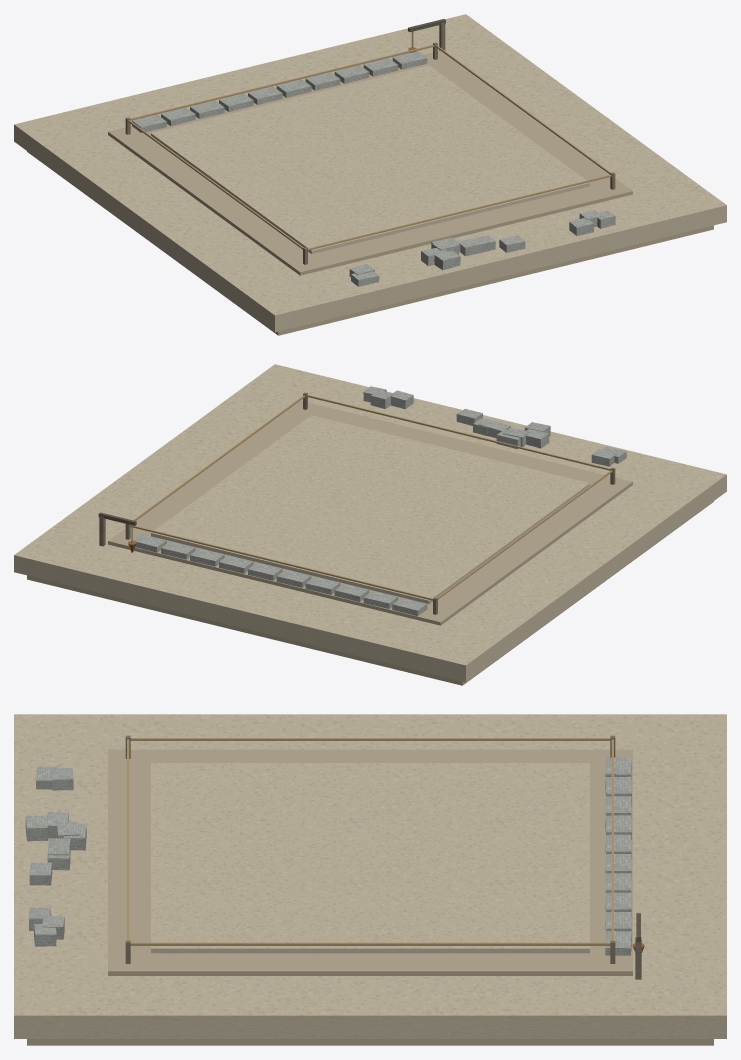
File: lin-5-site.glb
3 views of the same model, one above another, from view 1: azimuth 30°, elevation 25°; view 2: azimuth 150°, elevation 25°; view 3: azimuth 270°, elevation 25° (orthographic). The views are drawn at different scales.
Size of the model in its own units: 25 by 3.02 by 25.
Materials: 8 (6 with a texture image).
